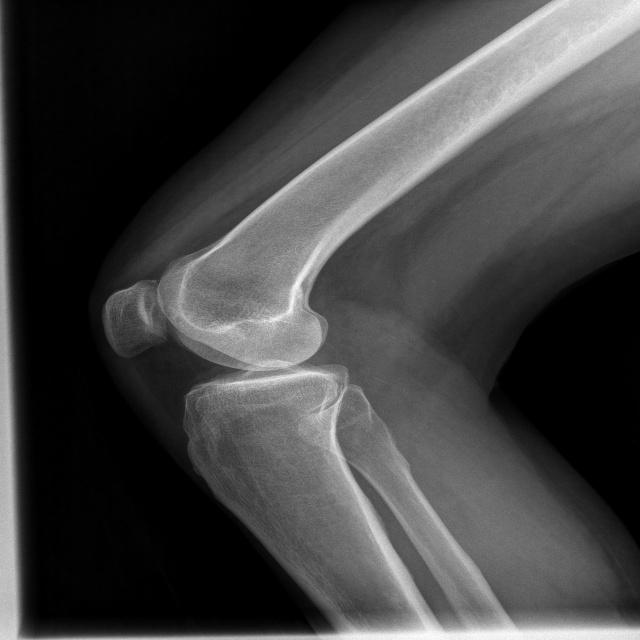Knee: (96, 264, 352, 449)
